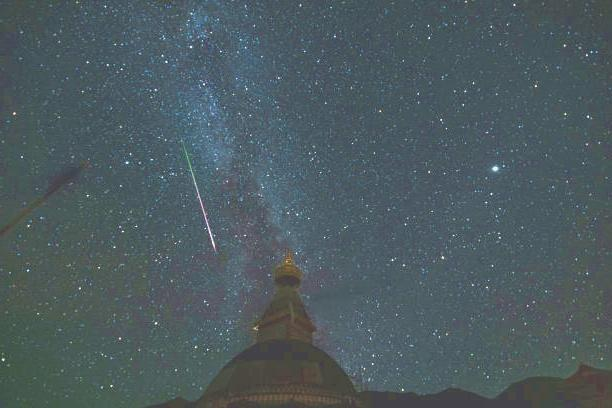meteorite: (185, 162, 222, 255)
